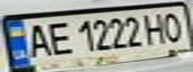1: (72, 16, 96, 53)
2: (121, 12, 145, 48), (106, 13, 127, 51), (90, 16, 112, 52)
A: (21, 20, 54, 58)
E: (42, 19, 75, 56)
H: (142, 10, 172, 45)
O: (160, 9, 190, 43)
